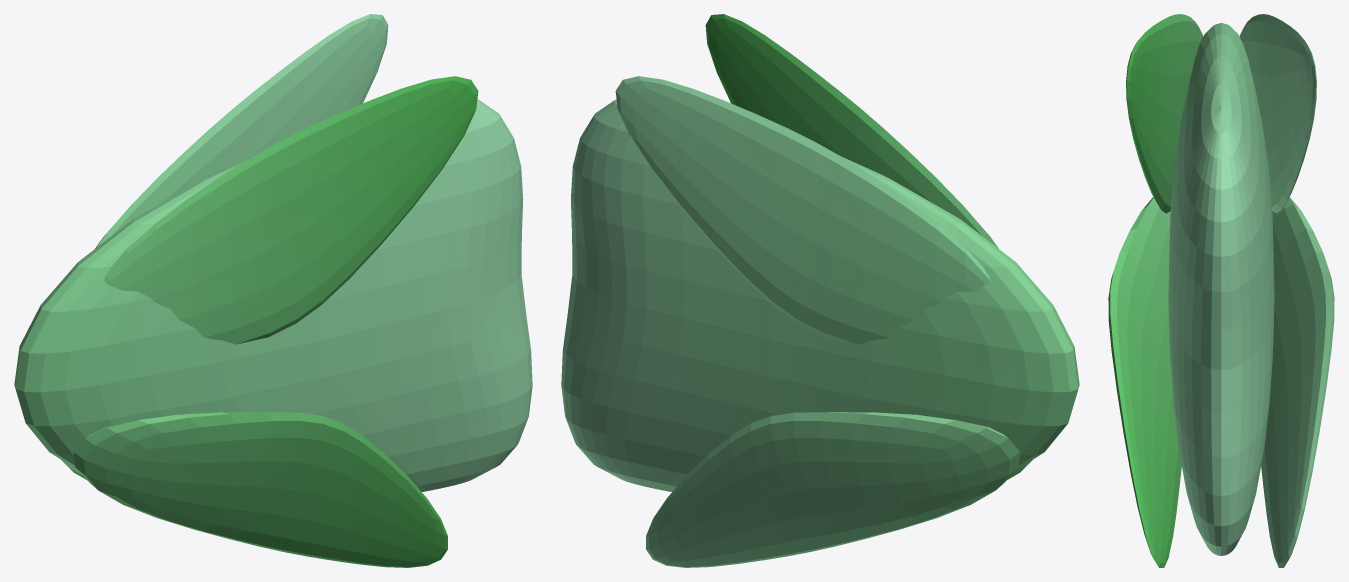
File: greenfish tail.fbx
The picture shows the model from 3 angles, left to right: view 1: azimuth 30°, elevation 25°; view 2: azimuth 150°, elevation 25°; view 3: azimuth 270°, elevation 25°; orthographic projection. The views are drawn at different scales.
Visible parts, largest first — view 1: Sphere.010; view 2: Sphere.010; view 3: Sphere.010.
Part boxes in pixels (x1,y1,x2,y2): Sphere.010: (14, 14, 532, 567); Sphere.010: (561, 14, 1079, 567); Sphere.010: (1108, 14, 1334, 567).
Size of the model in its own units: 117 by 108 by 42.45.
Materials: 1 (1 with a texture image).
